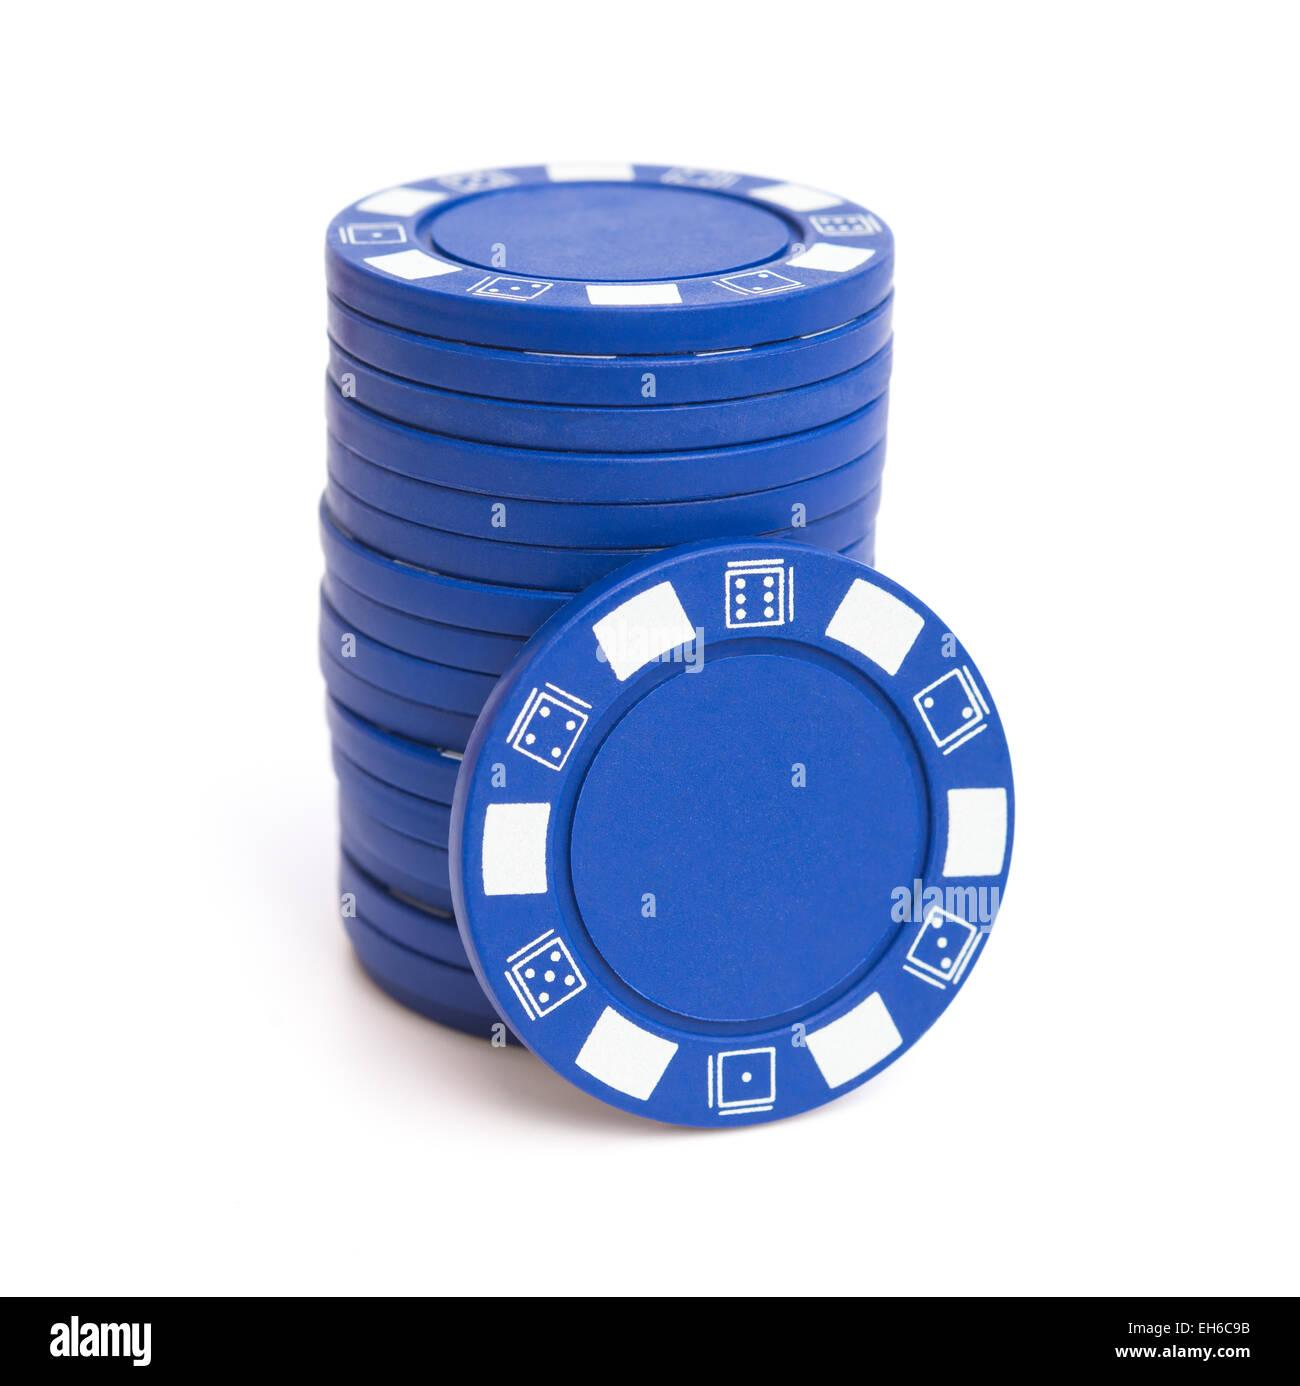chip-blue: (450, 539, 1013, 1126), (327, 165, 893, 353), (325, 383, 888, 502), (327, 436, 886, 550), (327, 295, 891, 406), (327, 342, 891, 451), (325, 479, 650, 592), (319, 506, 574, 636), (323, 572, 525, 676), (319, 600, 498, 715), (343, 918, 498, 1036), (319, 644, 477, 750), (338, 853, 472, 969), (327, 695, 461, 805), (338, 791, 452, 911), (334, 748, 450, 848)
